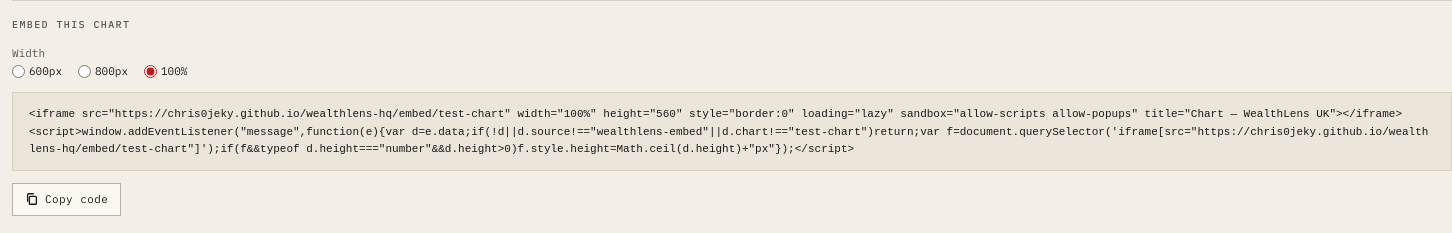
Test case: EmbedCode › changes iframe width when a radio option is selected
# Select 600px (first option)
Click the radio button labelled "600px" at (18, 71), box top-left (12, 65), bottom-right (25, 78)
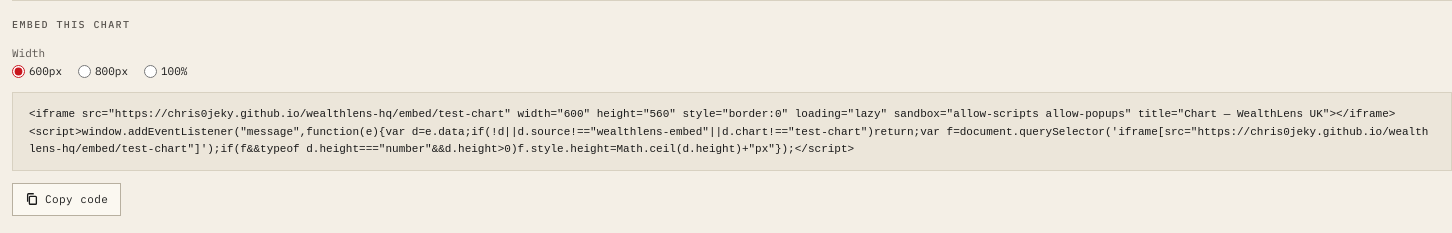
Now the text "width=\"600\"" is shown, box top-left (29, 108), bottom-right (1428, 155)
